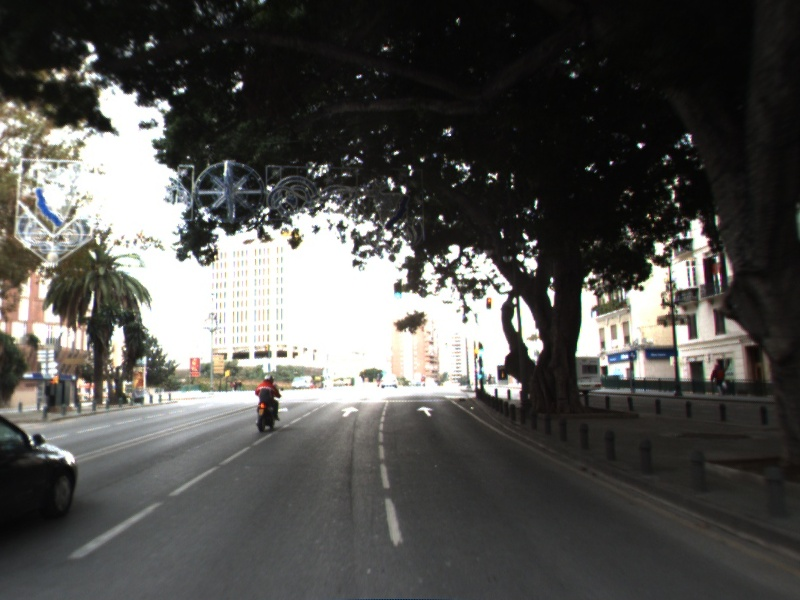STRAIGHT: (414, 404, 437, 419), (339, 405, 361, 419)
